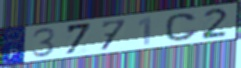1: (138, 15, 153, 46)
2: (201, 7, 230, 41)
3: (31, 27, 58, 58)
7: (65, 21, 94, 56), (100, 17, 128, 51)
C: (164, 12, 200, 43)
